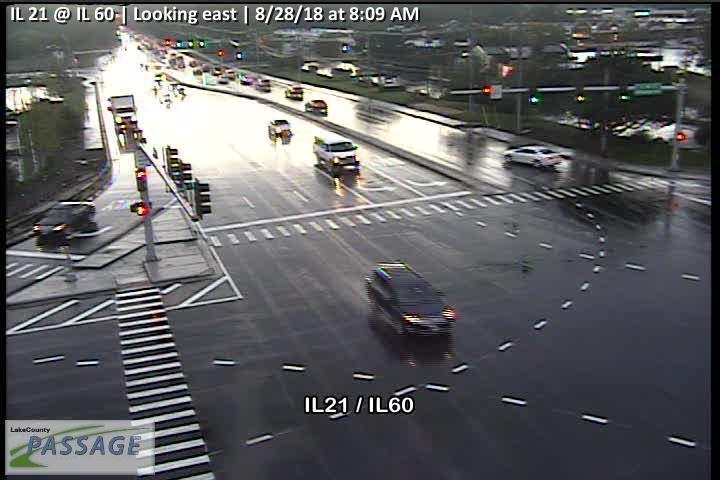SUV: (365, 260, 457, 336), (313, 131, 360, 173), (304, 99, 328, 112), (286, 86, 304, 96)
Sedan: (32, 200, 96, 238), (504, 144, 563, 167), (268, 118, 292, 138)
